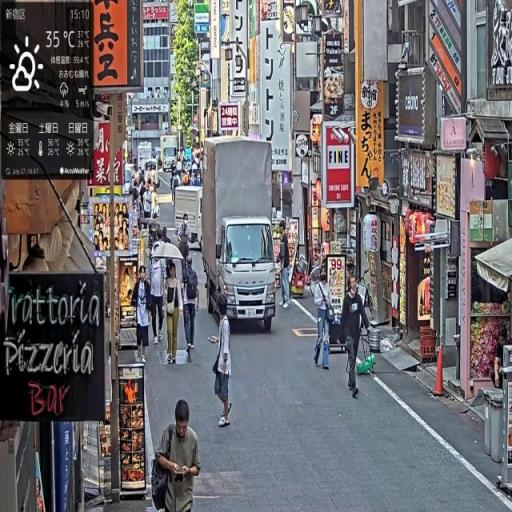person: (152, 398, 202, 512), (339, 274, 372, 399), (211, 297, 233, 432), (133, 265, 156, 363), (163, 261, 184, 367), (182, 255, 200, 359), (151, 258, 168, 343), (278, 223, 294, 310)
